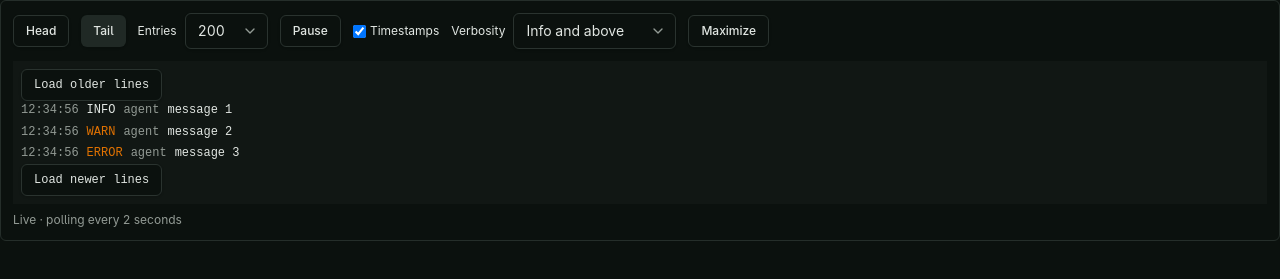
Test: log viewer › toggles UI timestamps and applies inclusive structured thresholds, never job severity
The image size is (1280, 279).
Expected: the text "message 0" is not shown
Expected: the text "message 1" is shown, [167,103,232,117]
Select "Warn + error" in the dropdown labelled "Verbosity" at (595, 31), box [513,13,676,49]
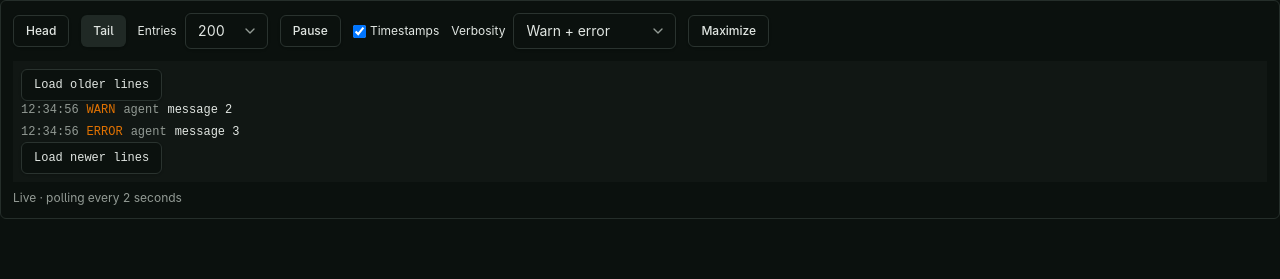
Expected: the text "message 2" is shown, [167,103,232,117]
Now the text "message 1" is gone
Select "Debug and above" in the dropdown labelled "Verbosity" at (595, 31), box [513,13,676,49]
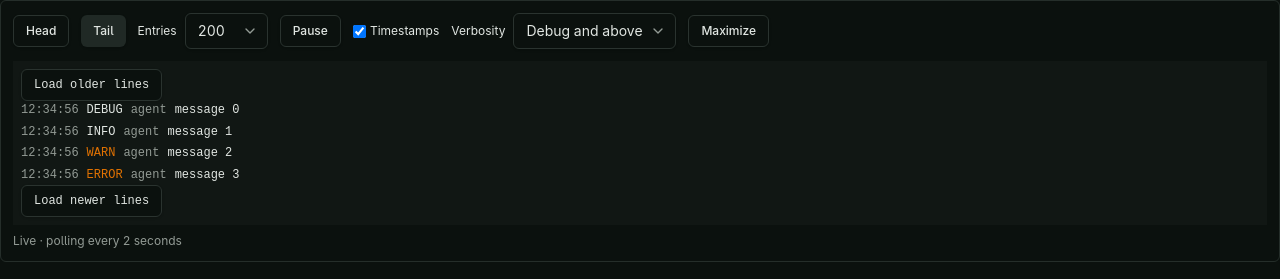
Now the text "message 0" is shown, box [175,103,239,117]
Click the checkbox labelled "Timestamps".
click(359, 31)  # box [353,24,366,38]
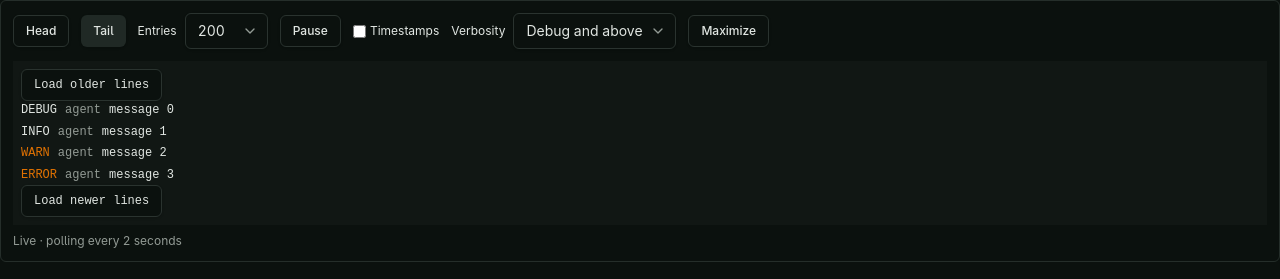
Now the text "12:34" is gone
